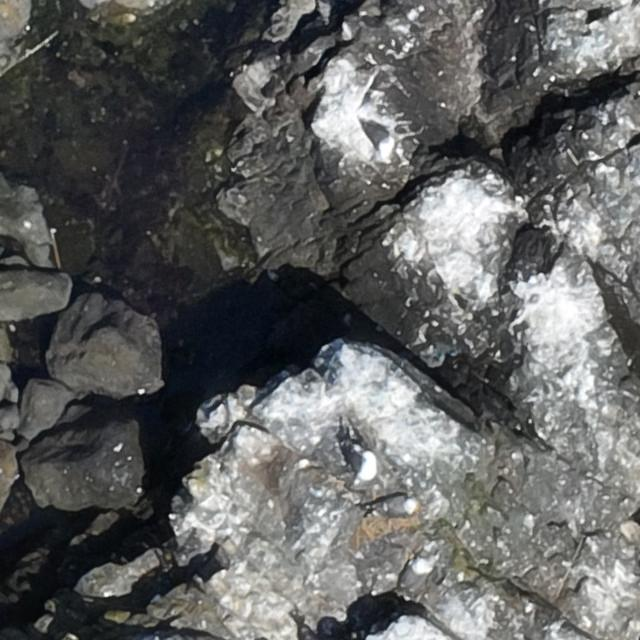umineko: (339, 427, 379, 485), (360, 115, 398, 156), (400, 553, 435, 595), (379, 497, 415, 515)
